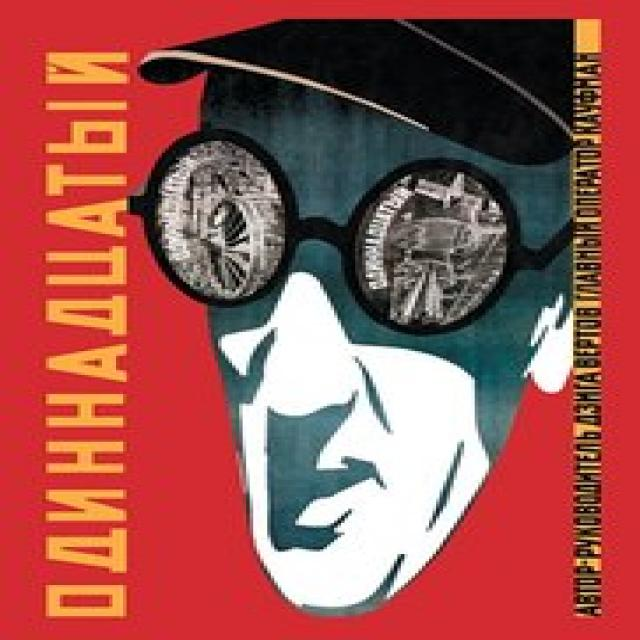movie-judul: (19, 39, 144, 624), (579, 18, 605, 620)
picture: (148, 19, 577, 615)
